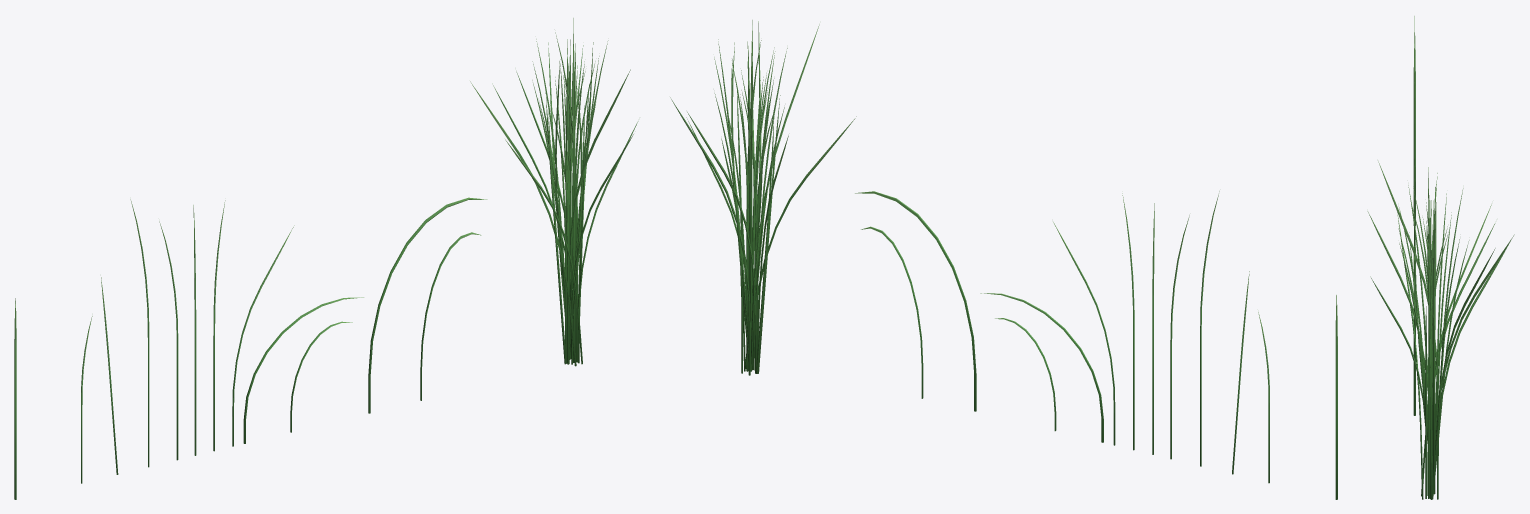
Rendered from medium_tree_01.glb.
3 views of the same model, side by side, from view 1: azimuth 30°, elevation 25°; view 2: azimuth 150°, elevation 25°; view 3: azimuth 270°, elevation 25° (orthographic). The views are drawn at different scales.
Parts seen in each view (by area): view 1: medium_tree_01; view 2: medium_tree_01; view 3: medium_tree_01.
Part boxes in pixels (left/top/right/bottom): medium_tree_01: left=14, top=18, right=638, bottom=499; medium_tree_01: left=670, top=20, right=1337, bottom=499; medium_tree_01: left=1367, top=16, right=1514, bottom=499.
Size of the model in its own units: 6.05 by 3.2 by 1.29.
Materials: 1 (1 with a texture image).
